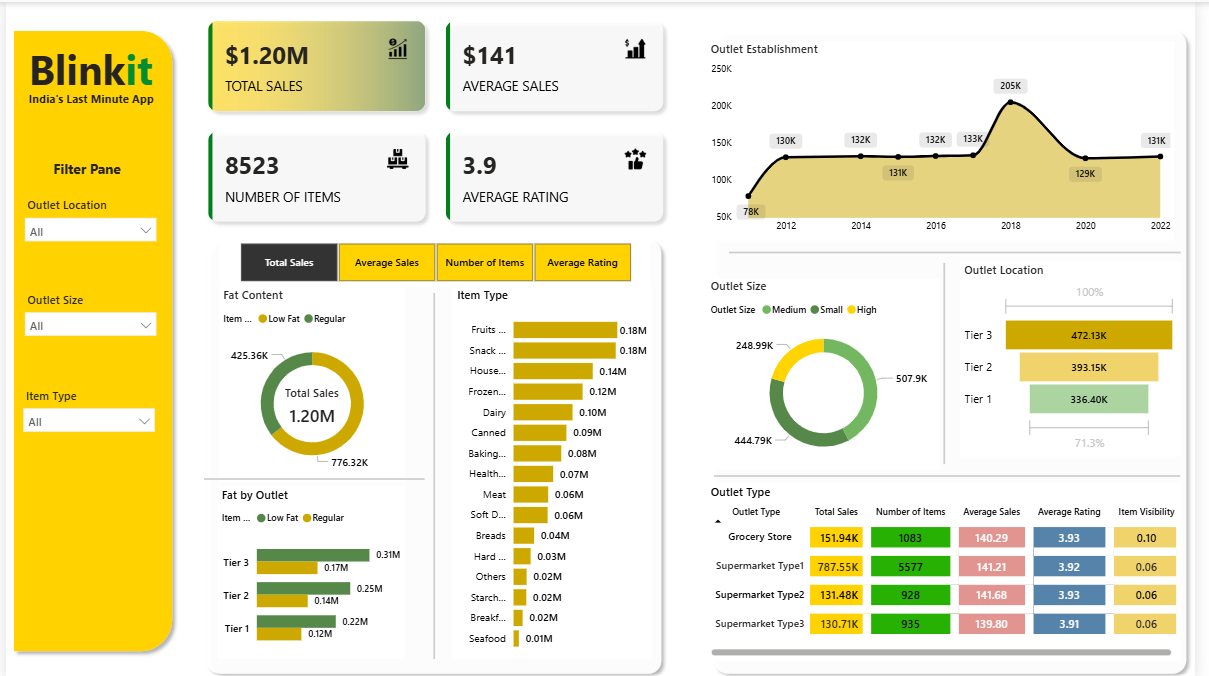

The dashboard page shown, as its layout file describes it:
{"tool":"powerbi","page":{"name":"Page 1","canvas":[1280,720],"ordinal":0},"visuals":[{"type":"shape","box":[12.3,16.5,157.8,686.1],"z":0},{"type":"textbox","box":[5.5,16.5,171.5,67.2],"z":1000},{"type":"textbox","box":[28.8,67.2,164.7,32.9],"z":2000},{"type":"cardVisual","fields":{"Data":["BlinkIT Grocery Data.Total Sales"]},"box":[171.5,9.6,193.5,102.9],"z":3000},{"type":"cardVisual","fields":{"Data":["BlinkIT Grocery Data.Avg Sales"]},"box":[363.6,9.6,189.4,102.9],"z":4000},{"type":"cardVisual","fields":{"Data":["BlinkIT Grocery Data.Num_of_items"]},"box":[363.6,118,205.8,96.1],"z":5000},{"type":"cardVisual","fields":{"Data":["BlinkIT Grocery Data.Avg_rating"]},"box":[170.2,112.5,193.5,107],"z":6000},{"type":"shape","box":[177,219.6,476.2,483],"z":7000},{"type":"donutChart","title":"Fat Content","fields":{"Y":["BlinkIT Grocery Data.Num_of_items"],"Category":["BlinkIT Grocery Data.Item Fat Content"]},"box":[193.5,282.7,237.4,192.1],"z":8000},{"type":"slicer","fields":{"Values":["Metrics.Metrics"]},"box":[170.2,219.6,456.9,46.7],"z":9000},{"type":"cardVisual","title":"Total Sales","fields":{"Data":["BlinkIT Grocery Data.Total Sales"]},"box":[274.4,378.7,76.8,67.2],"z":10000},{"type":"clusteredBarChart","title":"Fat by Outlet","fields":{"Y":["BlinkIT Grocery Data.Total Sales"],"Category":["BlinkIT Grocery Data.Outlet Location Type"],"Series":["BlinkIT Grocery Data.Item Fat Content"]},"box":[193.5,461.1,237.4,230.5],"z":11000},{"type":"barChart","title":"Item Type","fields":{"Category":["BlinkIT Grocery Data.Item Type"],"Y":["BlinkIT Grocery Data.Total Sales"]},"box":[421.3,269,218.2,378.7],"z":12000},{"type":"shape","box":[662.8,9.6,603.8,710.8],"z":13000},{"type":"lineChart","title":"Outlet Establishment","fields":{"Y":["BlinkIT Grocery Data.Total Sales"],"Category":["BlinkIT Grocery Data.Outlet Establishment Year"]},"box":[680.6,34.3,526.9,231.9],"z":14000},{"type":"donutChart","title":"Outlet Size","fields":{"Y":["BlinkIT Grocery Data.Total Sales"],"Category":["BlinkIT Grocery Data.Outlet Size"]},"box":[680.6,292.3,263.5,192.1],"z":15000},{"type":"funnel","title":"Outlet Location","fields":{"Y":["BlinkIT Grocery Data.Total Sales"],"Category":["BlinkIT Grocery Data.Outlet Location Type"]},"box":[944.1,296.4,279.9,216.8],"z":16000},{"type":"pivotTable","title":"Outlet Type","fields":{"Rows":["BlinkIT Grocery Data.Outlet Type"],"Values":["BlinkIT Grocery Data.Avg Sales","BlinkIT Grocery Data.Avg_rating","BlinkIT Grocery Data.Num_of_items","BlinkIT Grocery Data.Total Sales"]},"box":[703.9,524.2,539.3,178.4],"z":17000},{"type":"slicer","fields":{"Values":["BlinkIT Grocery Data.Outlet Location Type"]},"box":[22,157.8,140,85.1],"z":18000},{"type":"slicer","fields":{"Values":["BlinkIT Grocery Data.Item Type"]},"box":[22,376,140,85.1],"z":19000},{"type":"slicer","fields":{"Values":["BlinkIT Grocery Data.Outlet Size"]},"box":[22,266.2,140,85.1],"z":20000},{"type":"textbox","box":[9.6,112.5,164.7,32.9],"z":21000}]}

Visuals, with their boxes in screenshot pixels (x1, y1, x2, y2), scaled from the page's 1280x720 canvas onto the 1209x676 screenshot:
shape: locate(12, 15, 161, 660)
textbox: locate(5, 15, 167, 79)
textbox: locate(27, 63, 183, 94)
cardVisual - BlinkIT Grocery Data.Total Sales: locate(162, 9, 345, 106)
cardVisual - BlinkIT Grocery Data.Avg Sales: locate(343, 9, 522, 106)
cardVisual - BlinkIT Grocery Data.Num_of_items: locate(343, 111, 538, 201)
cardVisual - BlinkIT Grocery Data.Avg_rating: locate(161, 106, 344, 206)
shape: locate(167, 206, 617, 660)
"Fat Content" donutChart: locate(183, 265, 407, 446)
slicer - Metrics.Metrics: locate(161, 206, 592, 250)
"Total Sales" cardVisual: locate(259, 356, 332, 419)
"Fat by Outlet" clusteredBarChart: locate(183, 433, 407, 649)
"Item Type" barChart: locate(398, 253, 604, 608)
shape: locate(626, 9, 1196, 675)
"Outlet Establishment" lineChart: locate(643, 32, 1141, 250)
"Outlet Size" donutChart: locate(643, 274, 892, 455)
"Outlet Location" funnel: locate(892, 278, 1156, 482)
"Outlet Type" pivotTable: locate(665, 492, 1174, 660)
slicer - BlinkIT Grocery Data.Outlet Location Type: locate(21, 148, 153, 228)
slicer - BlinkIT Grocery Data.Item Type: locate(21, 353, 153, 433)
slicer - BlinkIT Grocery Data.Outlet Size: locate(21, 250, 153, 330)
textbox: locate(9, 106, 165, 137)
